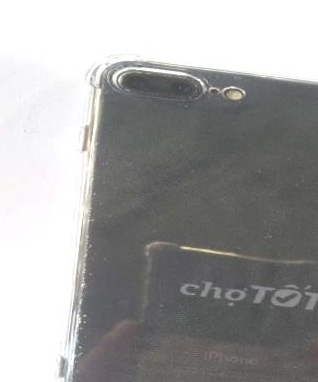scratch: (39, 147, 145, 382), (88, 49, 279, 117), (237, 140, 316, 188)
